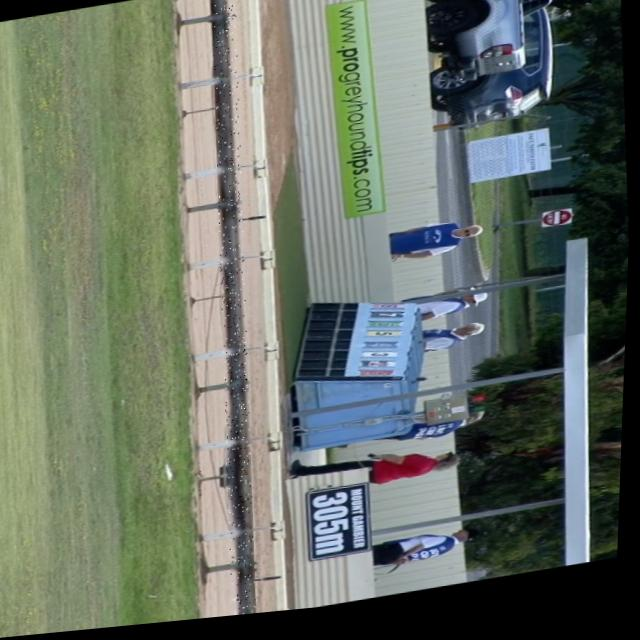rail: (210, 0, 259, 620)
